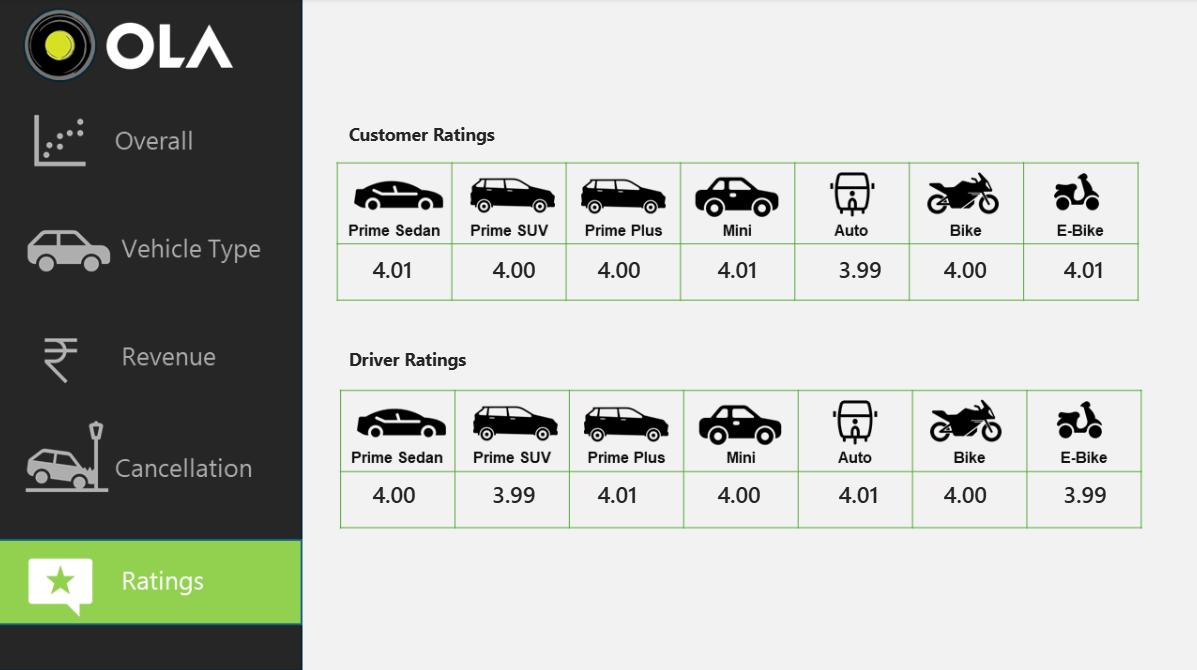

This screenshot's page, from the dashboard's own definition file:
{"tool":"powerbi","page":{"name":"Ratings","canvas":[1280,720],"ordinal":4},"visuals":[{"type":"actionButton","box":[0,208,320,96],"z":0},{"type":"actionButton","box":[0,336,320,96],"z":1000},{"type":"actionButton","box":[0,96,320,96],"z":2000},{"type":"actionButton","box":[0,336,320,96],"z":3000},{"type":"actionButton","box":[0,448,320,96],"z":4000},{"type":"cardVisual","fields":{"Data":["Avg(bengaluru_ride_bookings.customer_rating)"]},"box":[368,256,112,64],"z":4001},{"type":"cardVisual","fields":{"Data":["Avg(bengaluru_ride_bookings.customer_rating)"]},"box":[496,256,112,64],"z":4002},{"type":"cardVisual","fields":{"Data":["Avg(bengaluru_ride_bookings.customer_rating)"]},"box":[608,256,112,64],"z":4003},{"type":"cardVisual","fields":{"Data":["Avg(bengaluru_ride_bookings.customer_rating)"]},"box":[736,256,112,64],"z":4004},{"type":"cardVisual","fields":{"Data":["Avg(bengaluru_ride_bookings.customer_rating)"]},"box":[864,256,112,64],"z":4005},{"type":"cardVisual","fields":{"Data":["Avg(bengaluru_ride_bookings.customer_rating)"]},"box":[976,256,112,64],"z":4006},{"type":"cardVisual","fields":{"Data":["Avg(bengaluru_ride_bookings.customer_rating)"]},"box":[1104,256,112,64],"z":4007},{"type":"cardVisual","fields":{"Data":["Avg(bengaluru_ride_bookings.driver_ratings)"]},"box":[368,496,112,64],"z":4008},{"type":"cardVisual","fields":{"Data":["Avg(bengaluru_ride_bookings.driver_ratings)"]},"box":[496,496,112,64],"z":4010},{"type":"cardVisual","fields":{"Data":["Avg(bengaluru_ride_bookings.driver_ratings)"]},"box":[736,496,112,64],"z":4011},{"type":"cardVisual","fields":{"Data":["Avg(bengaluru_ride_bookings.driver_ratings)"]},"box":[976,496,112,64],"z":4013},{"type":"cardVisual","fields":{"Data":["Avg(bengaluru_ride_bookings.customer_rating)"]},"box":[608,496,112,64],"z":4015},{"type":"cardVisual","fields":{"Data":["Avg(bengaluru_ride_bookings.customer_rating)"]},"box":[864,496,112,64],"z":4016},{"type":"cardVisual","fields":{"Data":["Avg(bengaluru_ride_bookings.customer_rating)"]},"box":[1104,496,112,64],"z":4017},{"type":"textbox","box":[368,128,176,48],"z":4018},{"type":"textbox","box":[368,368,144,48],"z":4019}]}

Visuals, with their boxes on the page's 1280x720 design canvas (x1, y1, x2, y2). These are canvas units, not pixel positions in the 1197x670 screenshot, which may show the page scaled, cropped or inside an application window:
actionButton: x1=0, y1=208, x2=320, y2=304
actionButton: x1=0, y1=336, x2=320, y2=432
actionButton: x1=0, y1=96, x2=320, y2=192
actionButton: x1=0, y1=336, x2=320, y2=432
actionButton: x1=0, y1=448, x2=320, y2=544
cardVisual - Avg(bengaluru_ride_bookings.customer_rating): x1=368, y1=256, x2=480, y2=320
cardVisual - Avg(bengaluru_ride_bookings.customer_rating): x1=496, y1=256, x2=608, y2=320
cardVisual - Avg(bengaluru_ride_bookings.customer_rating): x1=608, y1=256, x2=720, y2=320
cardVisual - Avg(bengaluru_ride_bookings.customer_rating): x1=736, y1=256, x2=848, y2=320
cardVisual - Avg(bengaluru_ride_bookings.customer_rating): x1=864, y1=256, x2=976, y2=320
cardVisual - Avg(bengaluru_ride_bookings.customer_rating): x1=976, y1=256, x2=1088, y2=320
cardVisual - Avg(bengaluru_ride_bookings.customer_rating): x1=1104, y1=256, x2=1216, y2=320
cardVisual - Avg(bengaluru_ride_bookings.driver_ratings): x1=368, y1=496, x2=480, y2=560
cardVisual - Avg(bengaluru_ride_bookings.driver_ratings): x1=496, y1=496, x2=608, y2=560
cardVisual - Avg(bengaluru_ride_bookings.driver_ratings): x1=736, y1=496, x2=848, y2=560
cardVisual - Avg(bengaluru_ride_bookings.driver_ratings): x1=976, y1=496, x2=1088, y2=560
cardVisual - Avg(bengaluru_ride_bookings.customer_rating): x1=608, y1=496, x2=720, y2=560
cardVisual - Avg(bengaluru_ride_bookings.customer_rating): x1=864, y1=496, x2=976, y2=560
cardVisual - Avg(bengaluru_ride_bookings.customer_rating): x1=1104, y1=496, x2=1216, y2=560
textbox: x1=368, y1=128, x2=544, y2=176
textbox: x1=368, y1=368, x2=512, y2=416
